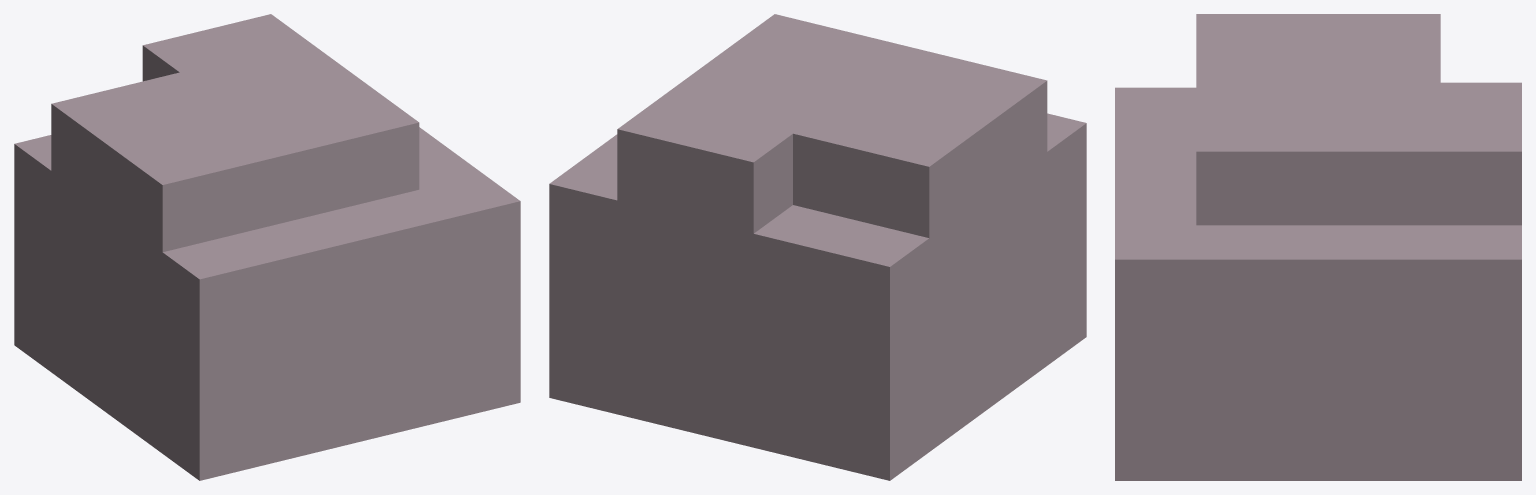
Rendered from rock2.gltf.
The picture shows the model from 3 angles, left to right: view 1: azimuth 30°, elevation 25°; view 2: azimuth 150°, elevation 25°; view 3: azimuth 270°, elevation 25°; orthographic projection. The views are drawn at different scales.
Visible parts, largest first — view 1: rock; view 2: rock; view 3: rock.
Part boxes in pixels (box(x1,y1,x2,y2)): rock: box(14, 14, 520, 480); rock: box(549, 14, 1086, 480); rock: box(1115, 14, 1521, 480).
Bounding box in the file's own units: 0.625 × 0.5 × 0.625.
Materials: 1 (1 with a texture image).
